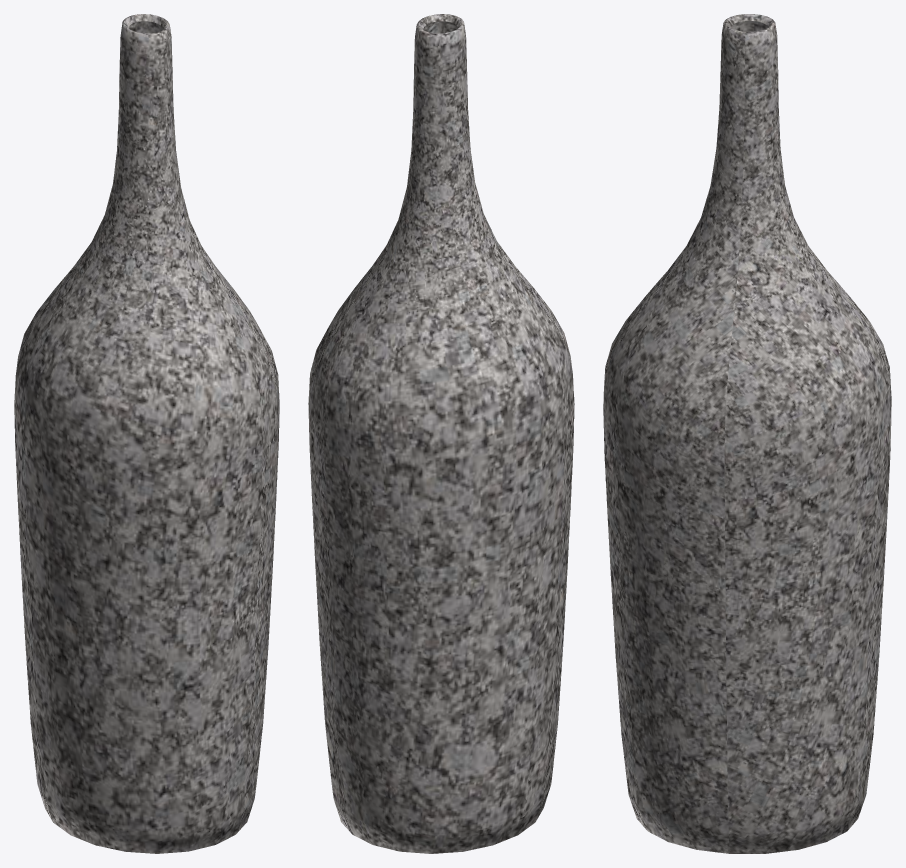
File: jarron.fbx
3 views of the same model, side by side, from view 1: azimuth 30°, elevation 25°; view 2: azimuth 150°, elevation 25°; view 3: azimuth 270°, elevation 25° (orthographic).
Visible parts, largest first — view 1: JarroMenos; view 2: JarroMenos; view 3: JarroMenos.
Part boxes in pixels (x1,y1,x2,y2): JarroMenos: (14, 14, 279, 853); JarroMenos: (308, 14, 574, 853); JarroMenos: (603, 14, 891, 853).
Bounding box in the file's own units: 18.91 × 64 × 21.14.
1 material, 1 textured.
